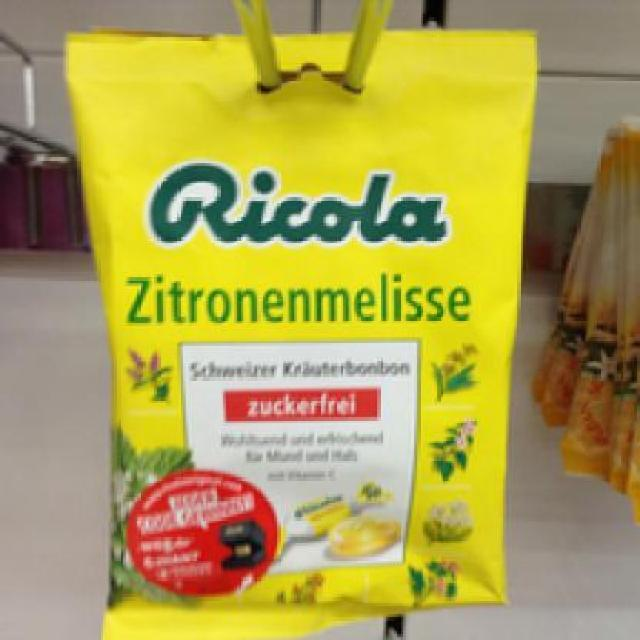Candy: (53, 29, 530, 628)
